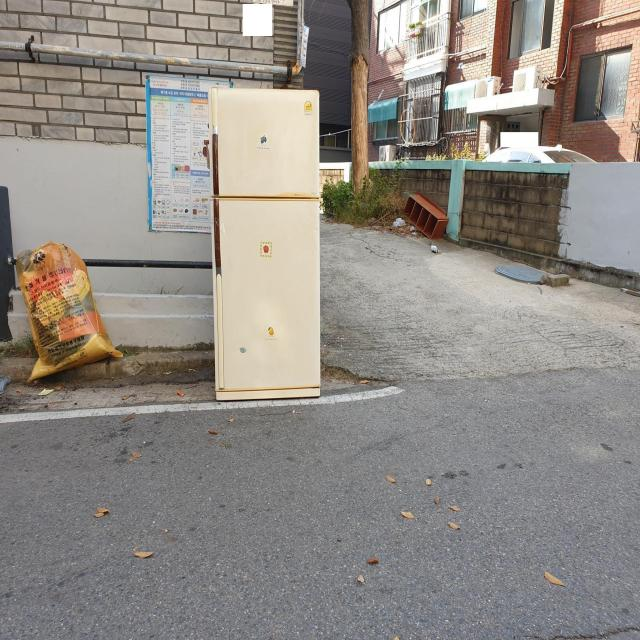refrigerator: (206, 85, 323, 402)
